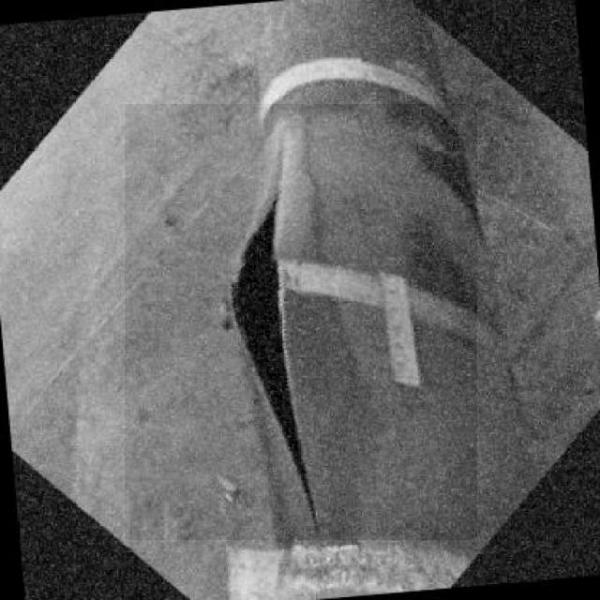crack: (125, 104, 477, 540)
